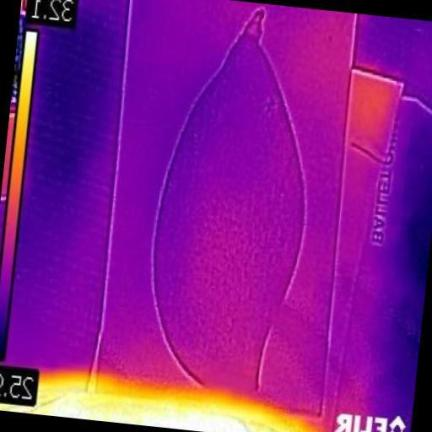mango: (153, 10, 306, 392)
